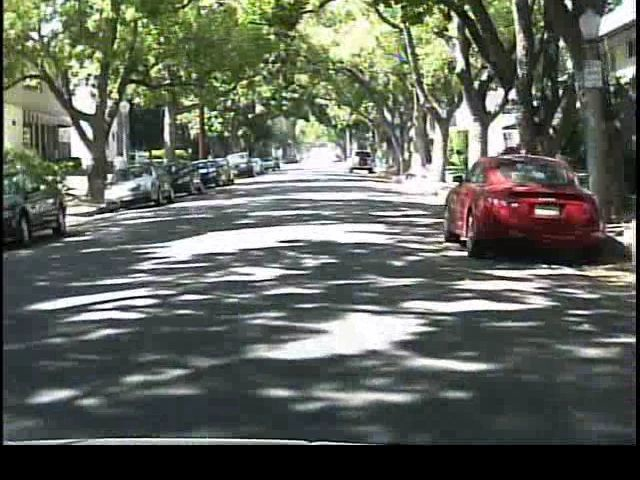person: (112, 147, 135, 197)
